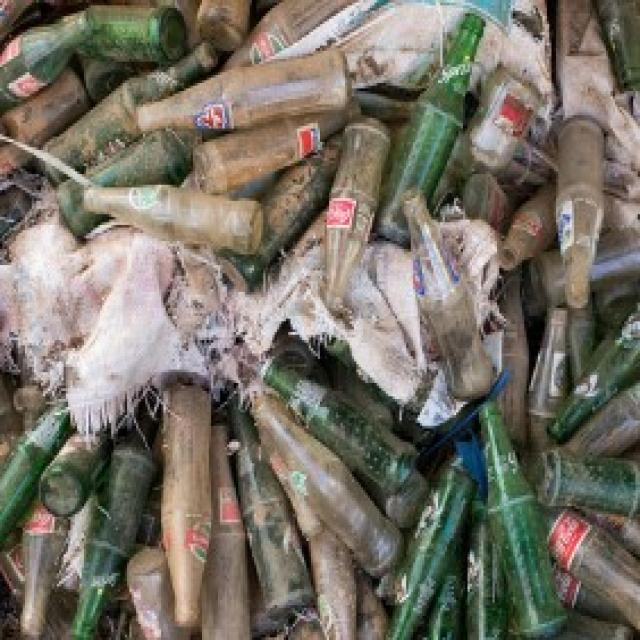electronic: (0, 0, 640, 396), (396, 403, 572, 640)
